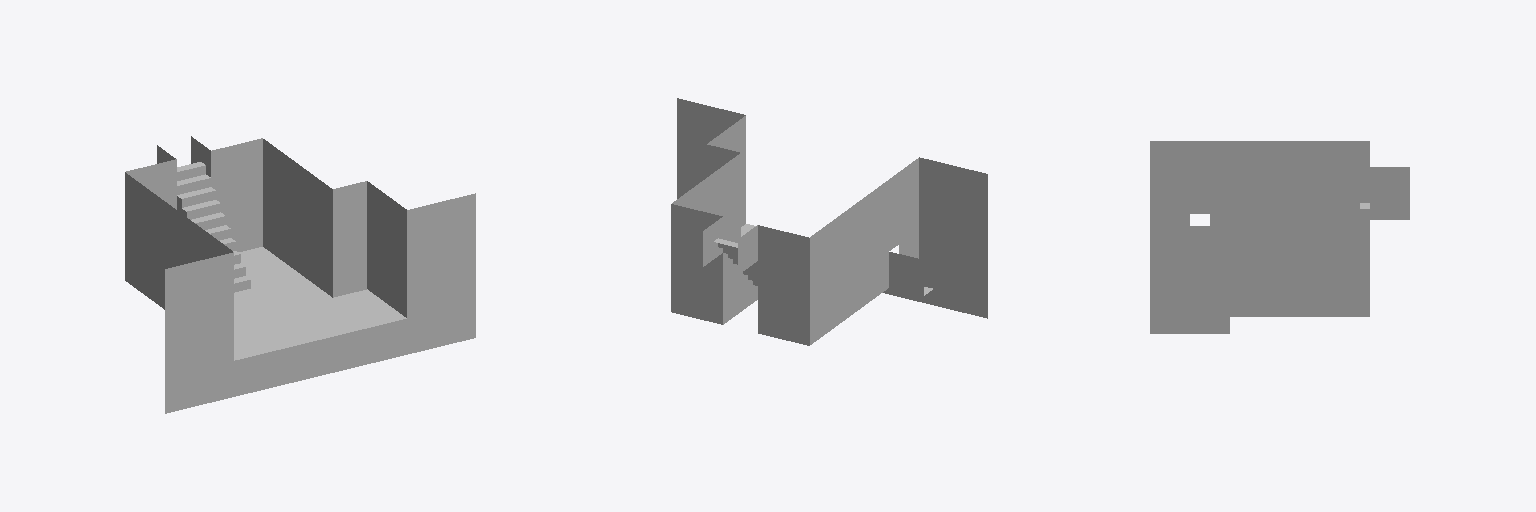
The model's file is cellar.obj.
3 renders of one model, left to right at view 1: azimuth 30°, elevation 25°; view 2: azimuth 150°, elevation 25°; view 3: azimuth 270°, elevation 25°, orthographic.
Parts seen in each view (by area): view 1: Plane; view 2: Plane; view 3: Plane.
Part boxes in pixels (x1,y1,x2,y2): Plane: (125, 136, 475, 413); Plane: (671, 98, 987, 345); Plane: (1150, 141, 1409, 333).
Size of the model in its own units: 18 by 8 by 13.